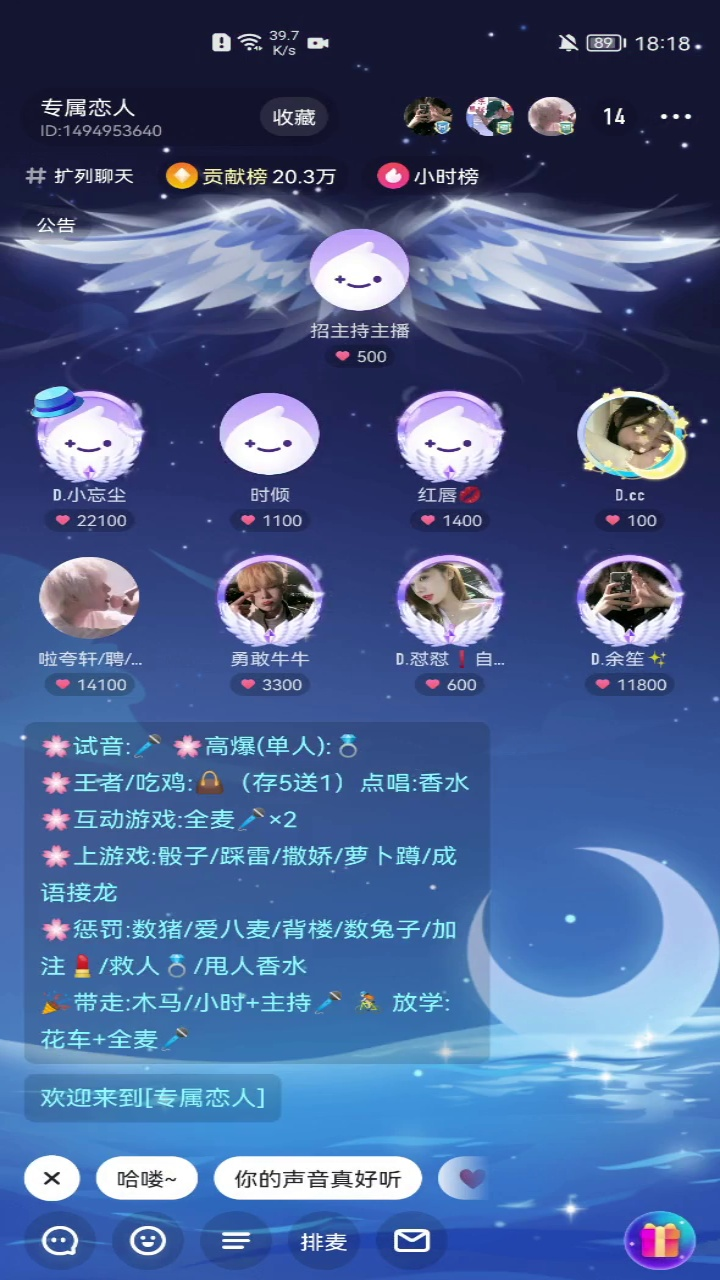avatar: (28, 382, 147, 485), (395, 390, 504, 482), (216, 390, 325, 477), (308, 228, 412, 314)
